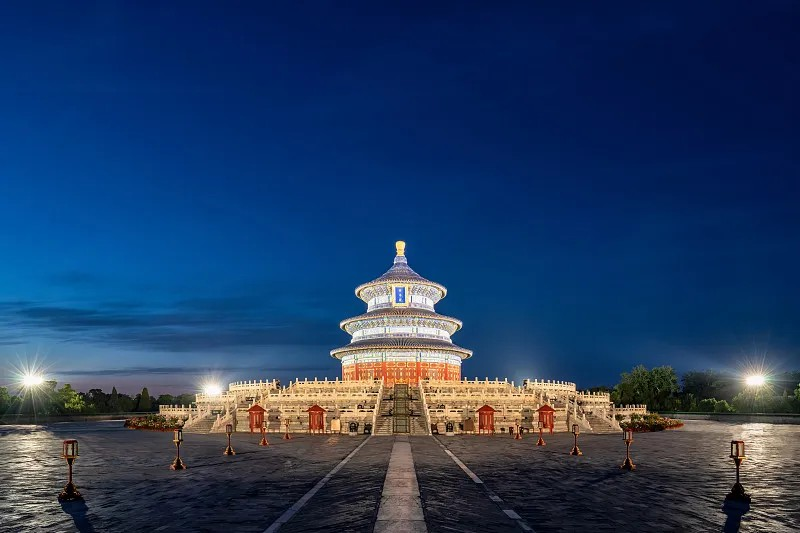Heaven: (329, 239, 473, 383)
